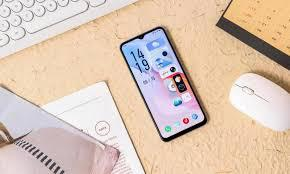Smartphone: (119, 29, 206, 143)
